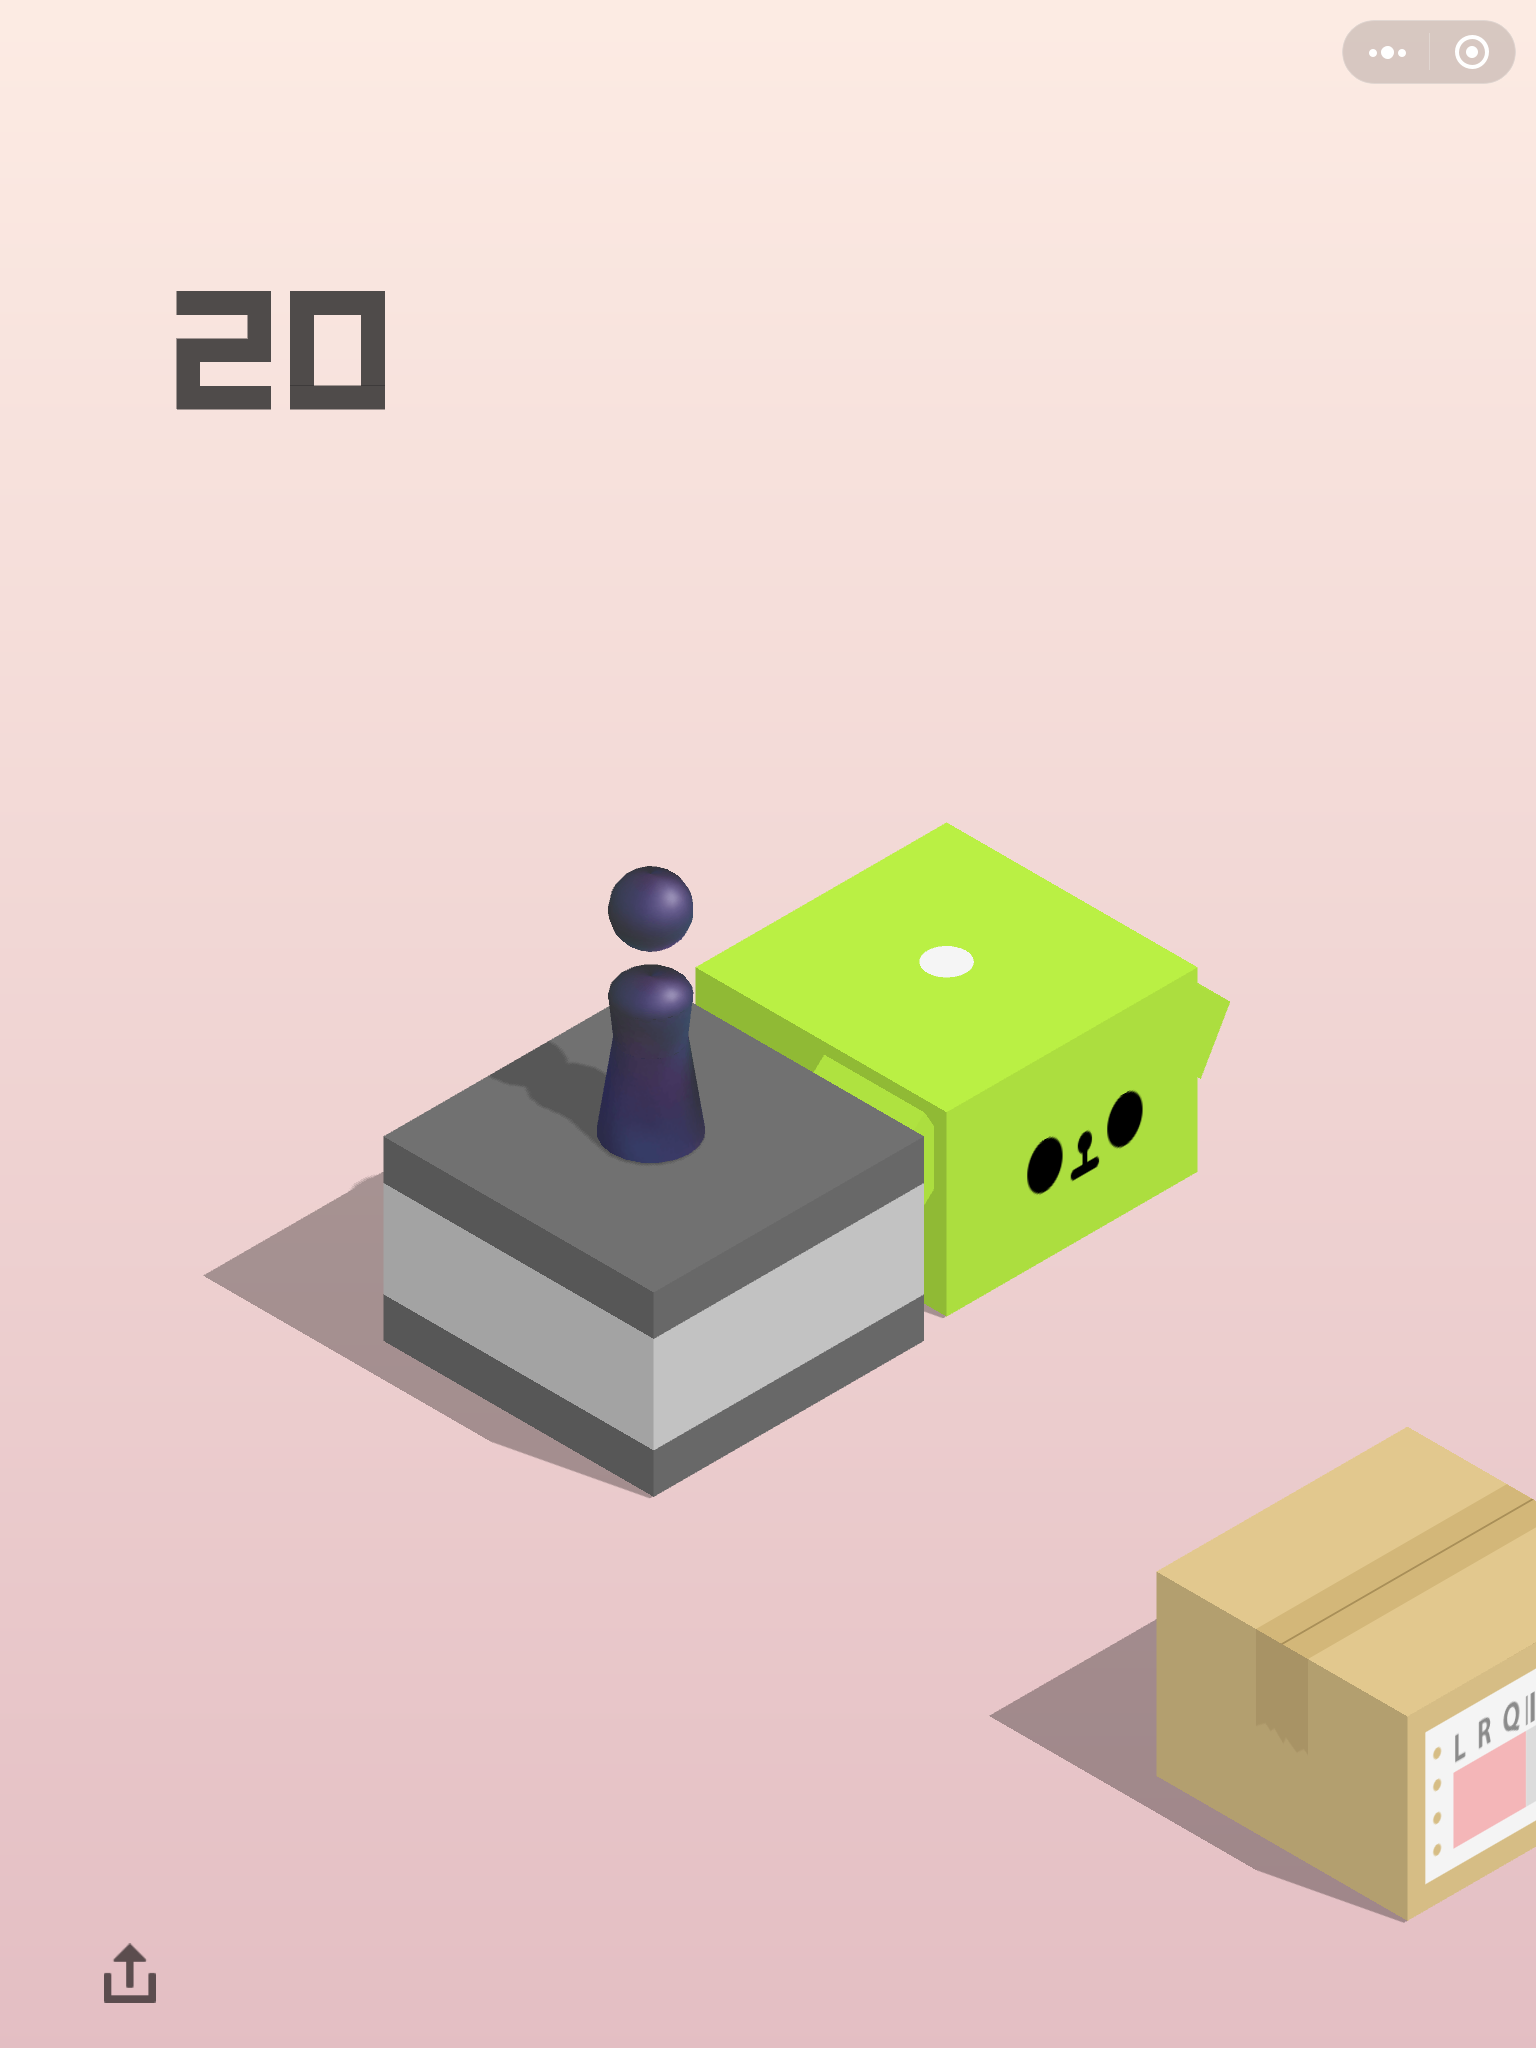f: (379, 979, 929, 1503), (687, 811, 1233, 1329), (1147, 1422, 1536, 1925)
r: (592, 860, 712, 1171)
